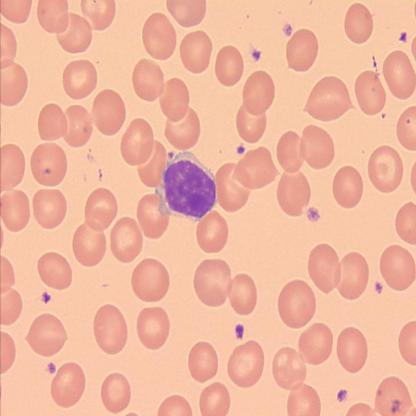Lymphocyte: (156, 149, 218, 221)
